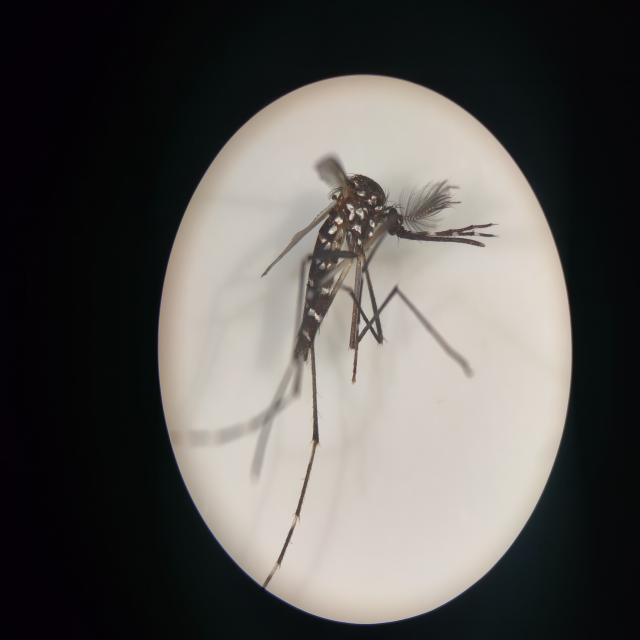albopictus: (245, 143, 505, 425)
